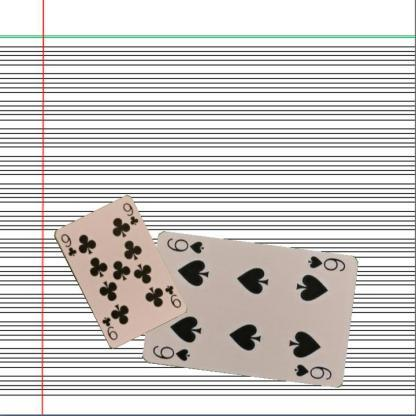6s: (150, 342, 192, 362), (305, 254, 347, 274)
9c: (162, 282, 182, 310), (58, 231, 78, 257)
